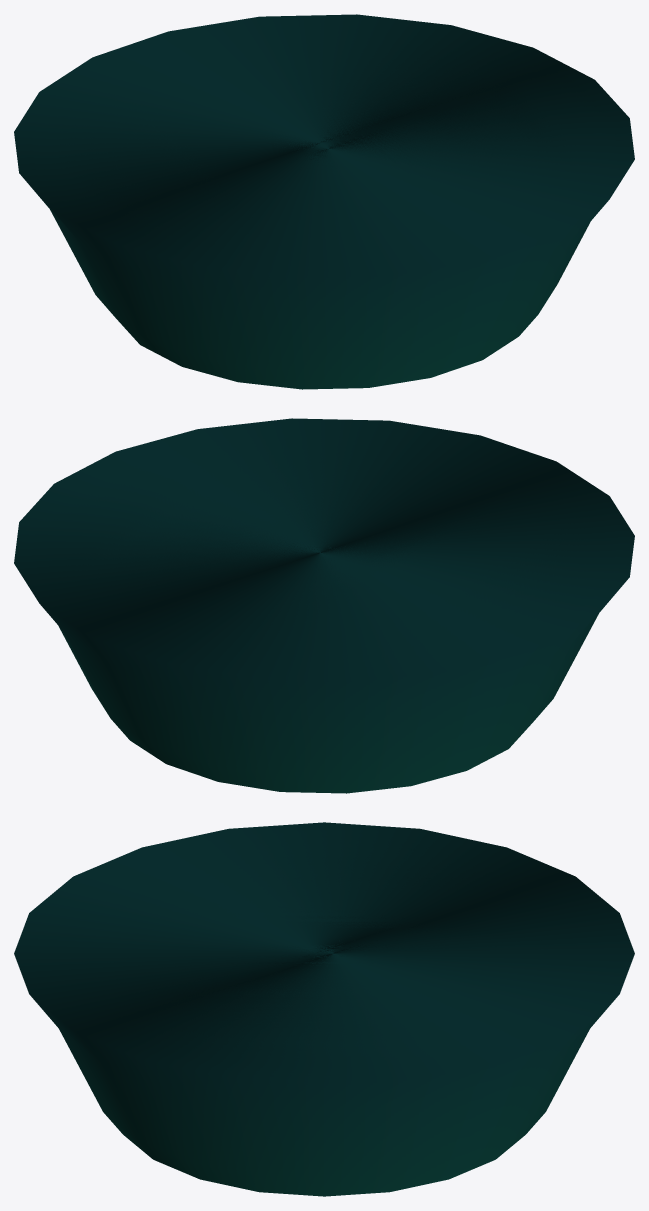
File: clay_bowl.glb
3 views of the same model, one above another, from view 1: azimuth 30°, elevation 25°; view 2: azimuth 150°, elevation 25°; view 3: azimuth 270°, elevation 25° (orthographic).
Parts seen in each view (by area): view 1: clay_bowl; view 2: clay_bowl; view 3: clay_bowl.
Part boxes in pixels (left/top/right/bottom): clay_bowl: left=14, top=14, right=634, bottom=389; clay_bowl: left=14, top=418, right=634, bottom=793; clay_bowl: left=14, top=822, right=634, bottom=1196.
Size of what is drawn, in the model's own units: 0.44 by 0.12 by 0.44.
